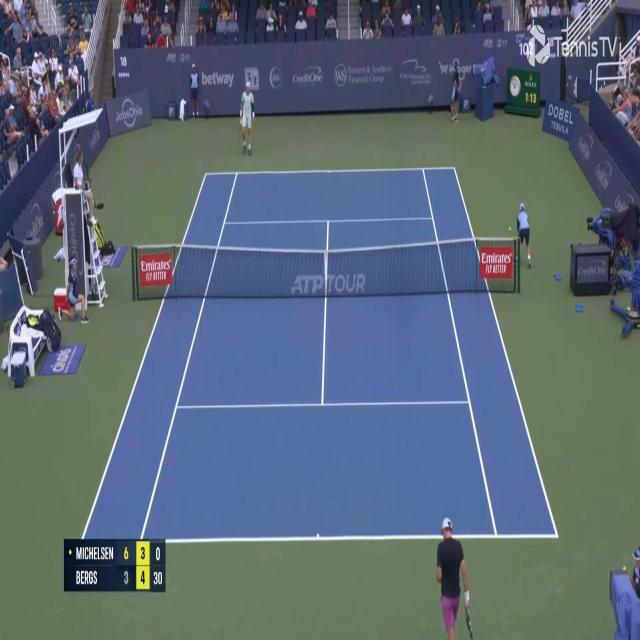tennis-player: (433, 514, 476, 640), (239, 78, 256, 158)
